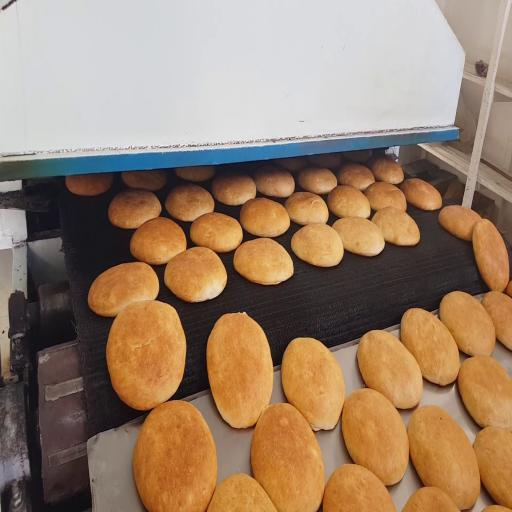bread: (133, 401, 217, 511), (107, 301, 186, 410), (251, 404, 325, 511), (207, 313, 273, 428), (408, 406, 480, 509), (342, 388, 408, 485), (282, 338, 345, 430), (357, 330, 422, 408), (400, 309, 459, 385), (88, 262, 159, 317), (458, 357, 511, 429), (439, 291, 495, 356), (164, 247, 227, 302), (323, 464, 395, 511), (474, 427, 511, 508), (234, 238, 293, 284), (130, 217, 186, 265), (473, 220, 509, 292), (208, 474, 276, 511), (291, 224, 343, 266), (190, 212, 242, 252), (108, 190, 161, 228), (240, 198, 290, 237), (333, 218, 384, 256), (372, 207, 420, 246), (165, 184, 214, 221), (482, 292, 511, 350), (439, 205, 481, 241), (285, 192, 328, 225), (211, 174, 256, 205), (328, 185, 370, 218), (402, 487, 458, 511), (401, 178, 442, 210), (253, 166, 294, 197), (365, 182, 406, 211), (298, 167, 337, 194), (337, 163, 374, 191), (66, 174, 113, 196), (369, 156, 403, 184), (122, 170, 167, 191), (175, 166, 215, 182), (308, 153, 342, 168), (274, 157, 307, 171), (342, 150, 372, 163), (483, 505, 511, 511), (506, 281, 511, 296)
